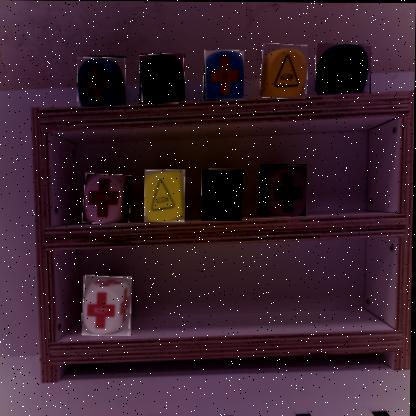CubeBlue: (317, 44, 374, 95), (78, 57, 128, 109), (141, 54, 187, 106), (205, 51, 246, 101)
CubeRed: (84, 277, 135, 338), (84, 175, 134, 226), (261, 165, 309, 218)
CubeYellow: (262, 44, 310, 100), (145, 170, 188, 224), (203, 170, 245, 222)
